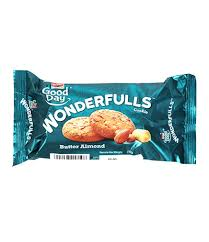gooday-medium: (15, 78, 193, 159)
